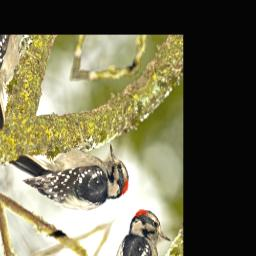Woodpecker: (0, 86, 137, 256)
